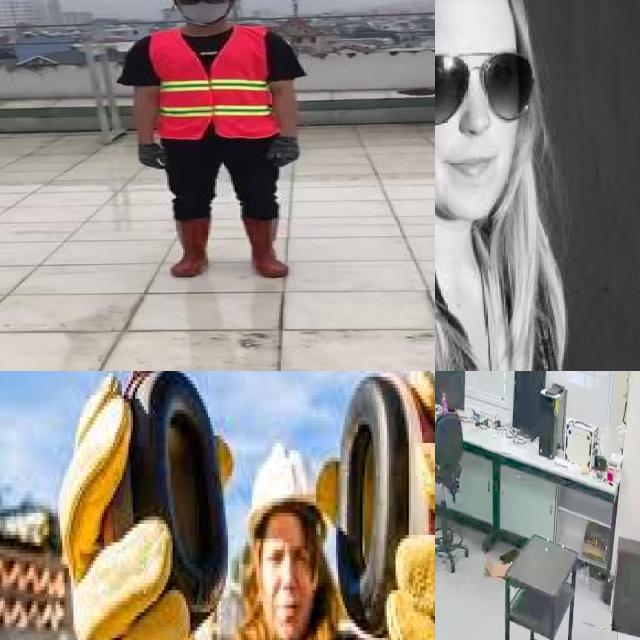Ear-protection: (106, 371, 229, 638), (329, 371, 435, 640)
boots: (238, 215, 295, 278), (169, 216, 213, 279)
face_mask: (171, 0, 233, 24)
face_nomask: (435, 47, 527, 194)
glasses: (435, 38, 531, 131), (169, 0, 235, 7)
hand_glove: (57, 389, 208, 640), (371, 371, 435, 640), (267, 136, 302, 170), (135, 142, 171, 170)
head_helmet: (239, 428, 327, 517)
person: (66, 371, 435, 640), (113, 0, 307, 281)
vest: (148, 25, 279, 140)
